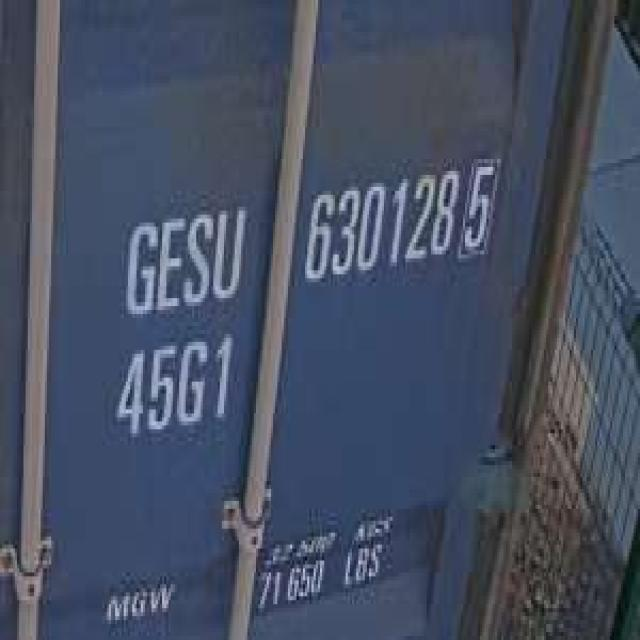dv: (461, 143, 503, 266)
owner: (117, 191, 250, 318)
serial: (296, 155, 456, 290)
size: (109, 330, 237, 445)
